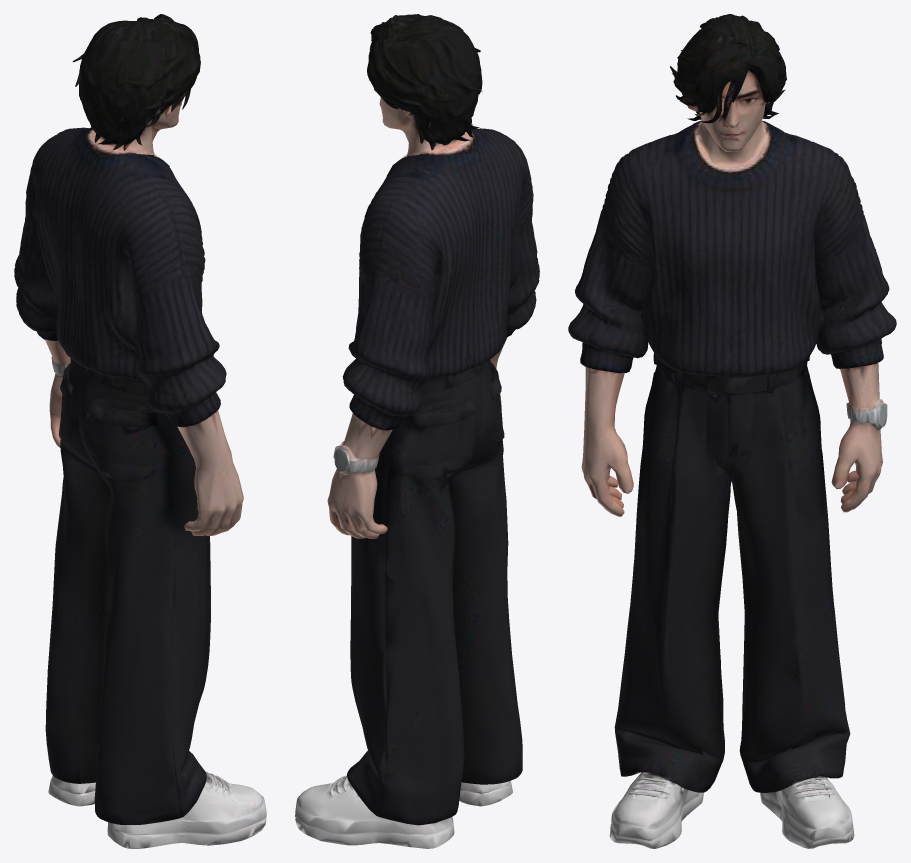
The model's file is hero-v7.glb.
The picture shows the model from 3 angles, left to right: view 1: azimuth 30°, elevation 25°; view 2: azimuth 150°, elevation 25°; view 3: azimuth 270°, elevation 25°; orthographic projection.
Visible parts, largest first — view 1: tripo_node_813adf5a-bc73-419e-8eb1-50a1b407f214; view 2: tripo_node_813adf5a-bc73-419e-8eb1-50a1b407f214; view 3: tripo_node_813adf5a-bc73-419e-8eb1-50a1b407f214.
Boxes of the visible parts, x1,y1,x2,y2 form: tripo_node_813adf5a-bc73-419e-8eb1-50a1b407f214: (14, 14, 266, 848); tripo_node_813adf5a-bc73-419e-8eb1-50a1b407f214: (295, 14, 539, 848); tripo_node_813adf5a-bc73-419e-8eb1-50a1b407f214: (568, 14, 896, 848).
Bounding box in the file's own units: 0.1966 × 0.9807 × 0.3678.
1 material, 1 textured.
